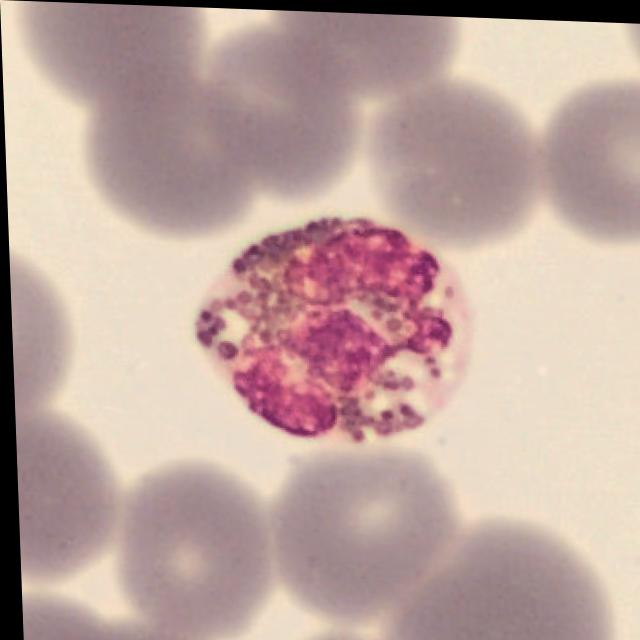Eosinofilo: (194, 213, 473, 441)
